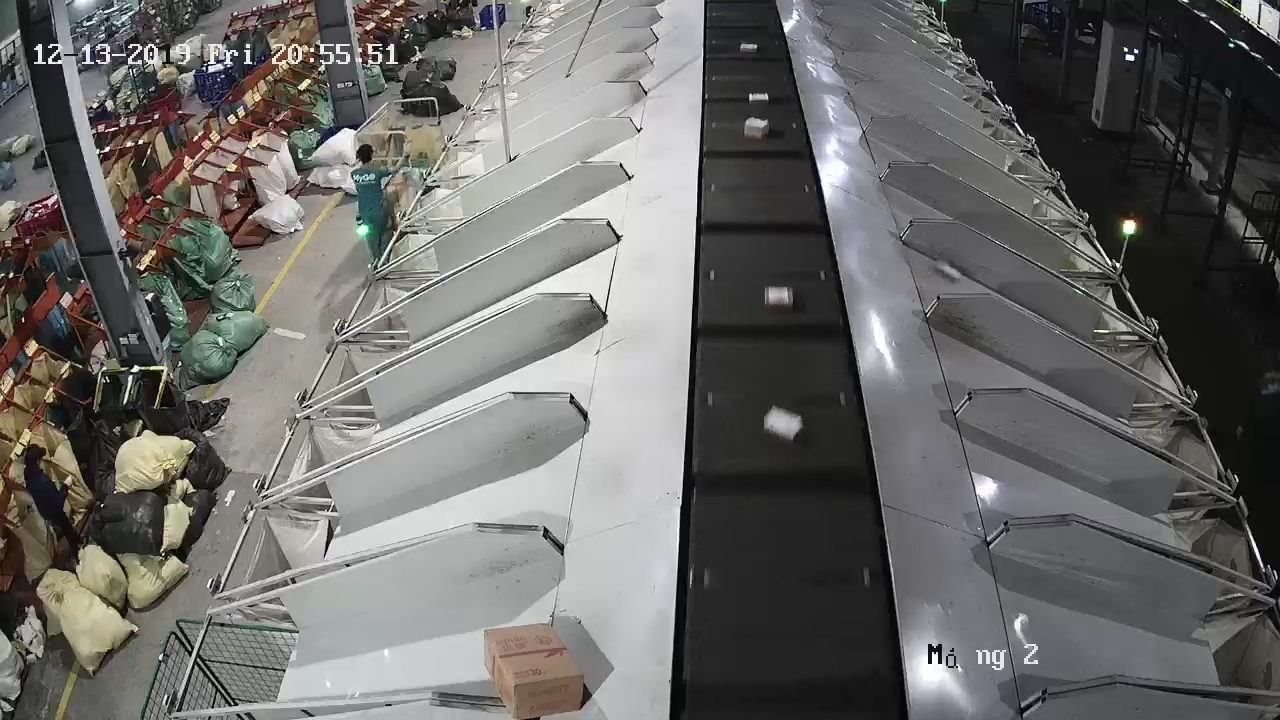parcel: (934, 259, 962, 281)
